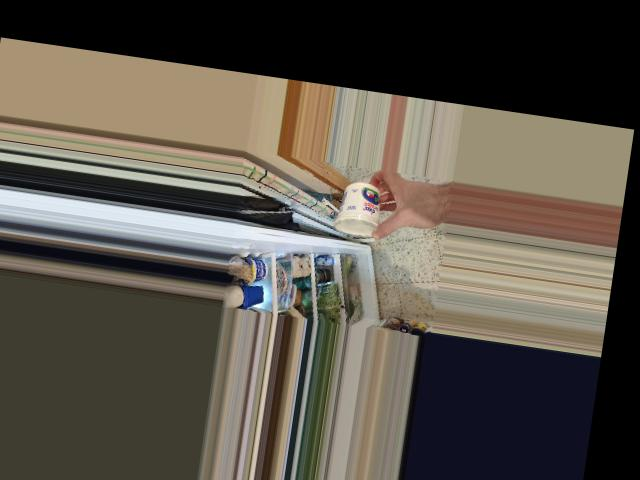cotage: (337, 183, 387, 236)
